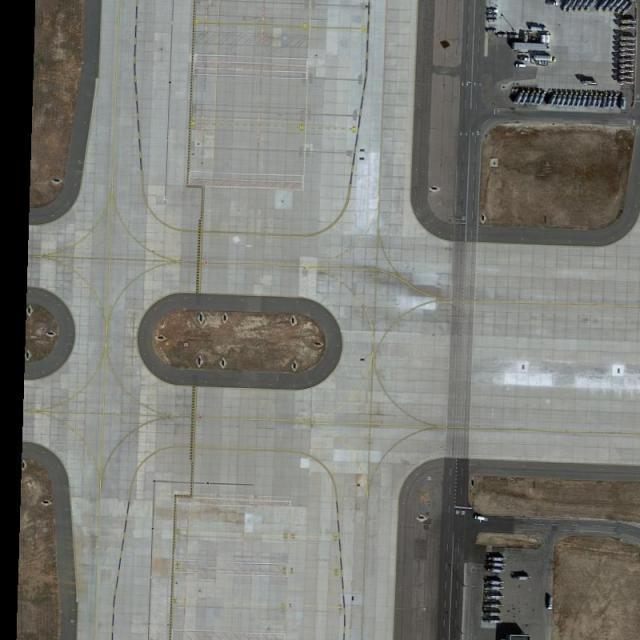vehicle: (546, 596, 554, 610), (474, 514, 486, 522), (515, 63, 527, 68)
